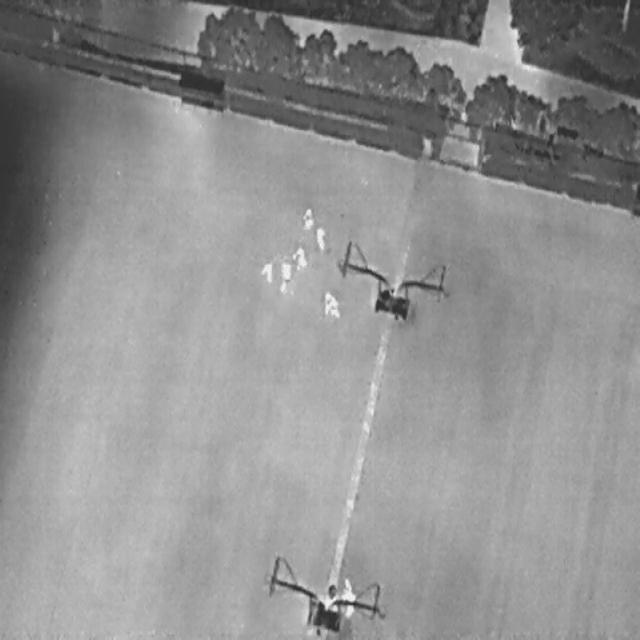Person: (276, 260, 291, 292), (340, 591, 355, 619), (301, 204, 313, 230), (292, 245, 306, 267), (313, 225, 325, 250), (328, 295, 340, 317), (259, 261, 272, 281), (322, 289, 331, 316), (341, 578, 353, 592)
